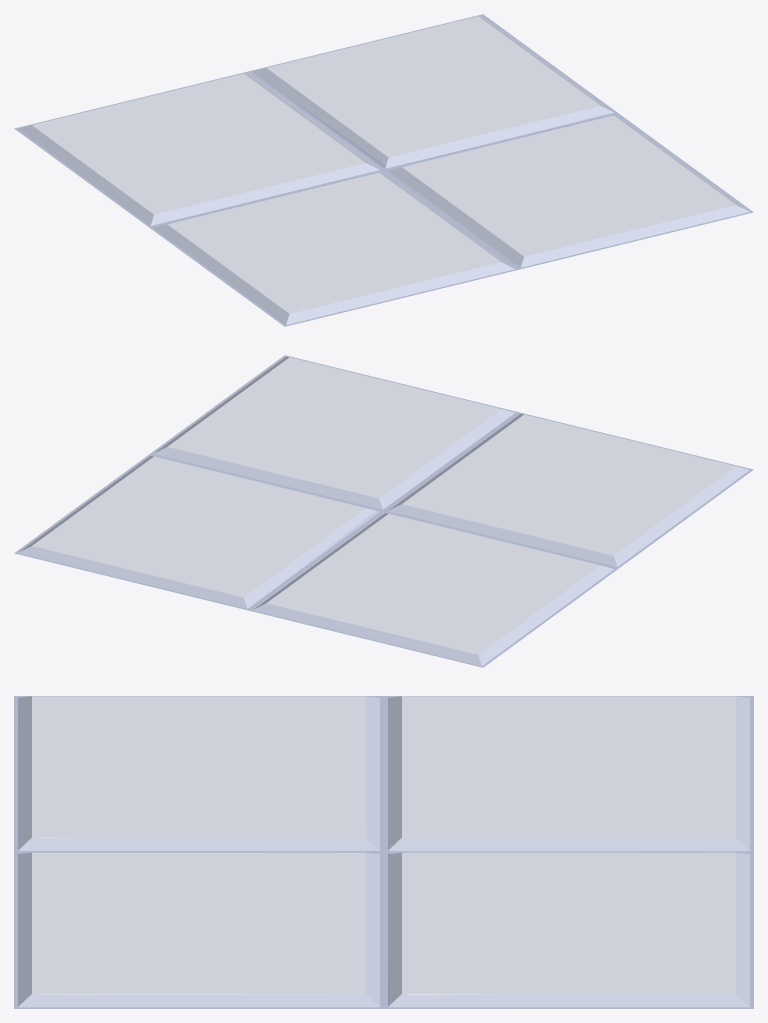
Rendered from TIle_Floor_Main.fbx.
The picture shows the model from 3 angles, top to bottom: view 1: azimuth 30°, elevation 25°; view 2: azimuth 150°, elevation 25°; view 3: azimuth 270°, elevation 25°; orthographic projection. The views are drawn at different scales.
Parts seen in each view (by area): view 1: Tile_Floor_Main; view 2: Tile_Floor_Main; view 3: Tile_Floor_Main.
Boxes of the visible parts, x1,y1,x2,y2 form: Tile_Floor_Main: (14,14,753,326); Tile_Floor_Main: (14,355,753,667); Tile_Floor_Main: (14,696,753,1008).
Size of the model in its own units: 200 by 2.19 by 200.
1 material, 1 textured.
